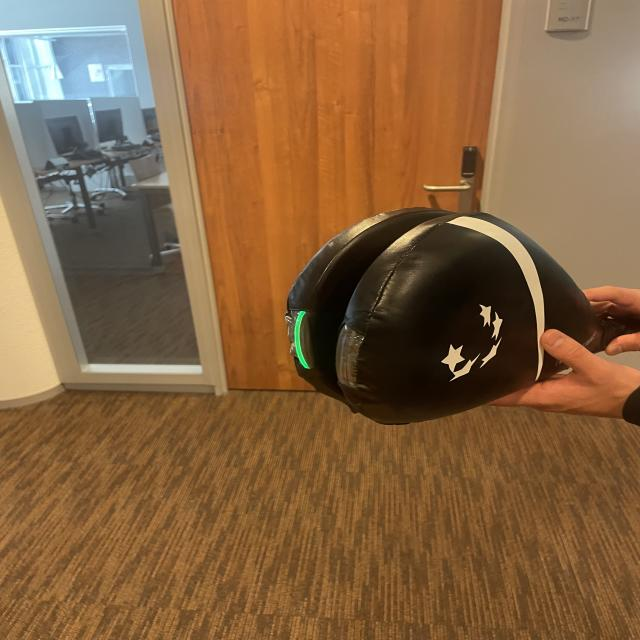paddle: (290, 211, 561, 413)
trigger: (287, 307, 316, 372)
